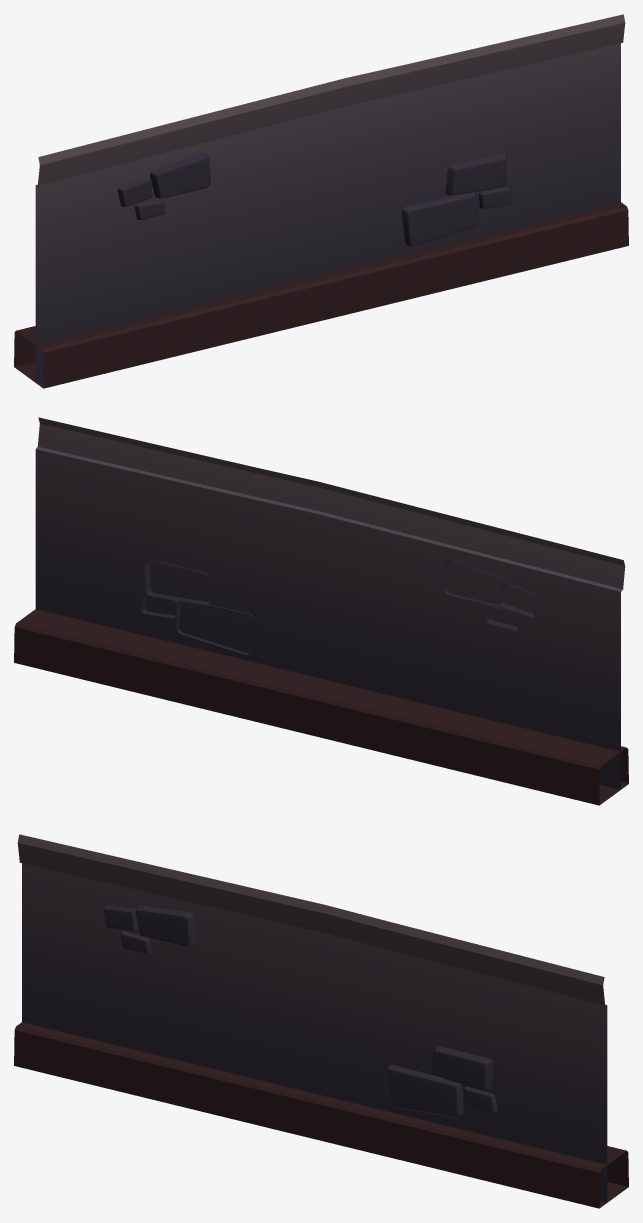
File: SM_Wall.fbx
The picture shows the model from 3 angles, top to bottom: view 1: azimuth 30°, elevation 25°; view 2: azimuth 150°, elevation 25°; view 3: azimuth 330°, elevation 25°; orthographic projection.
Visible parts, largest first — view 1: SM_Wall; view 2: SM_Wall; view 3: SM_Wall.
Boxes of the visible parts, left/top/right/bottom form: SM_Wall: left=14, top=14, right=628, bottom=388; SM_Wall: left=14, top=417, right=628, bottom=805; SM_Wall: left=14, top=834, right=628, bottom=1208.
Size of the model in its own units: 400 by 151 by 35.
Materials: 1 (1 with a texture image).
